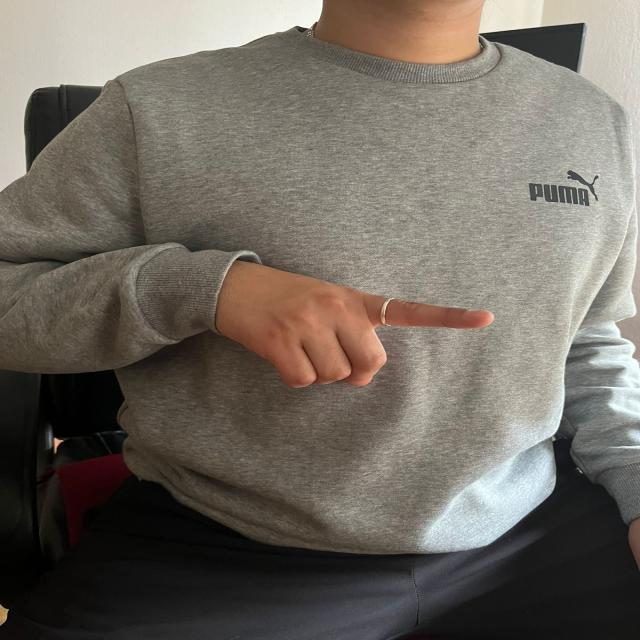S: (199, 249, 493, 406)
